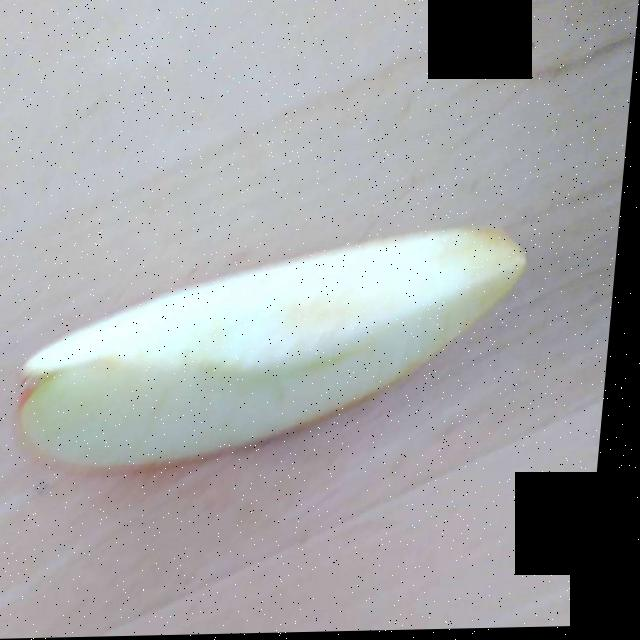apple: (30, 233, 523, 467)
